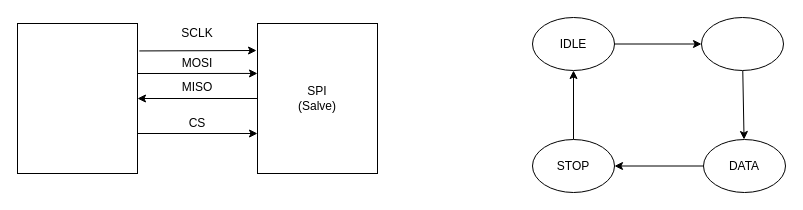
Some shapes in this 803 by 210 pixel diagram are drawn without their labels. The shapes that lost their labels are listed below. From the top down, each one's box as (x1, y1, x2, y2) in pixels, then its label:
(700, 16, 784, 70): START
(16, 22, 138, 174): SPI (Master)
